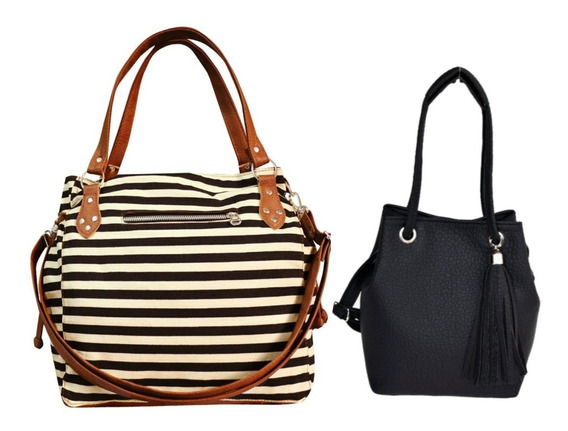cartera: (38, 26, 319, 407), (362, 66, 541, 399)
